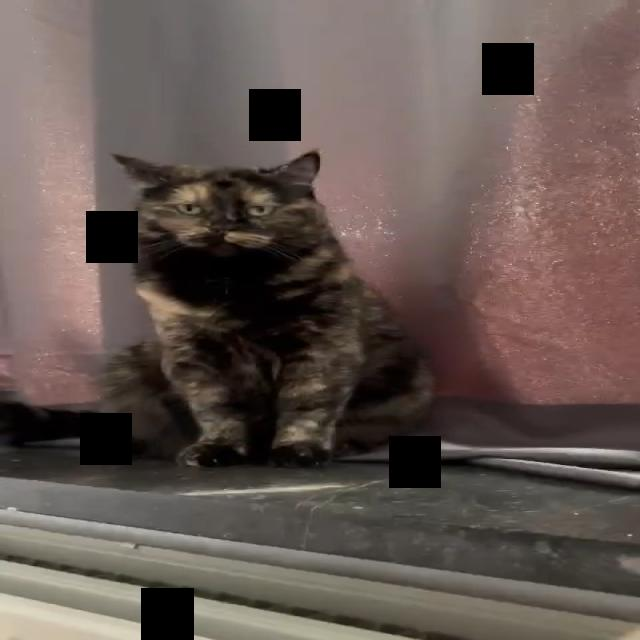authorized: (100, 148, 437, 468)
